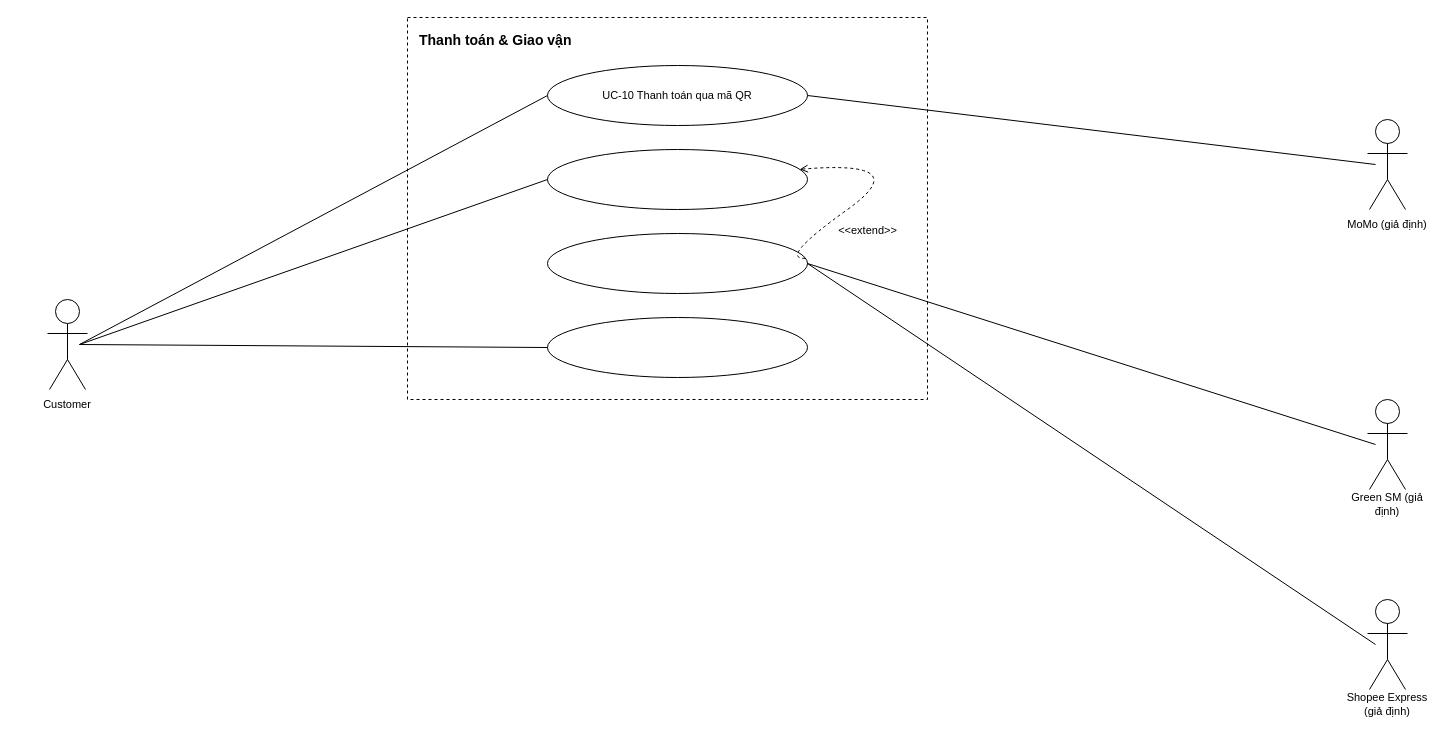
The diagram is 1454 pixels wide and 735 high, and some of its shapes have lost their labels. Each missing label, with the centre of its shape:
UC-11 Yêu cầu giao vận đến lấy hàng trả: (677,179)
UC-12 Nhận cập nhật trạng thái giao vận: (677,263)
UC-20 Rút tiền từ ví điện tử: (677,347)
